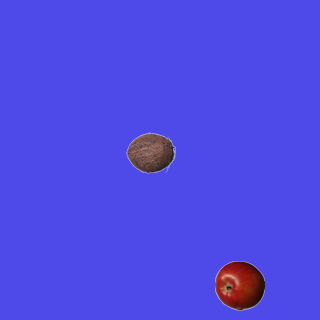Apple Braeburn: (214, 260, 264, 310)
Cocos: (125, 127, 175, 177)
